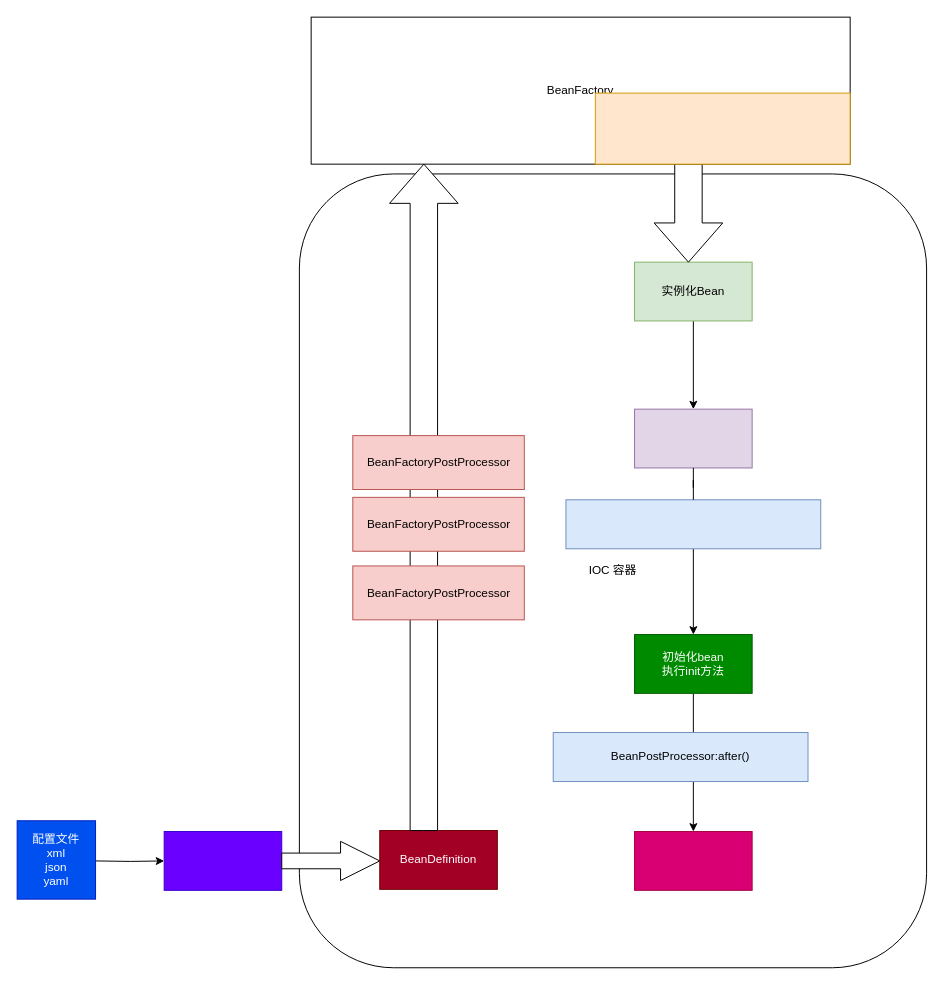
Image size: 944x985. Some labels were removed from this diagram. The shapes that lost their labels are listed below. From the top down, each one's centre as x and y in pixels, then its label:
the point at 722,128: Constructor cstr = clazz.getDeclareContructor(); Object o = cstr.newInstance();
the point at 693,438: 填充属性
the point at 693,524: BeanPostProcessor:before()
the point at 222,860: BeanDefinitionReader (读取 配置文件的抽象接口)
the point at 693,860: 完整的bean
